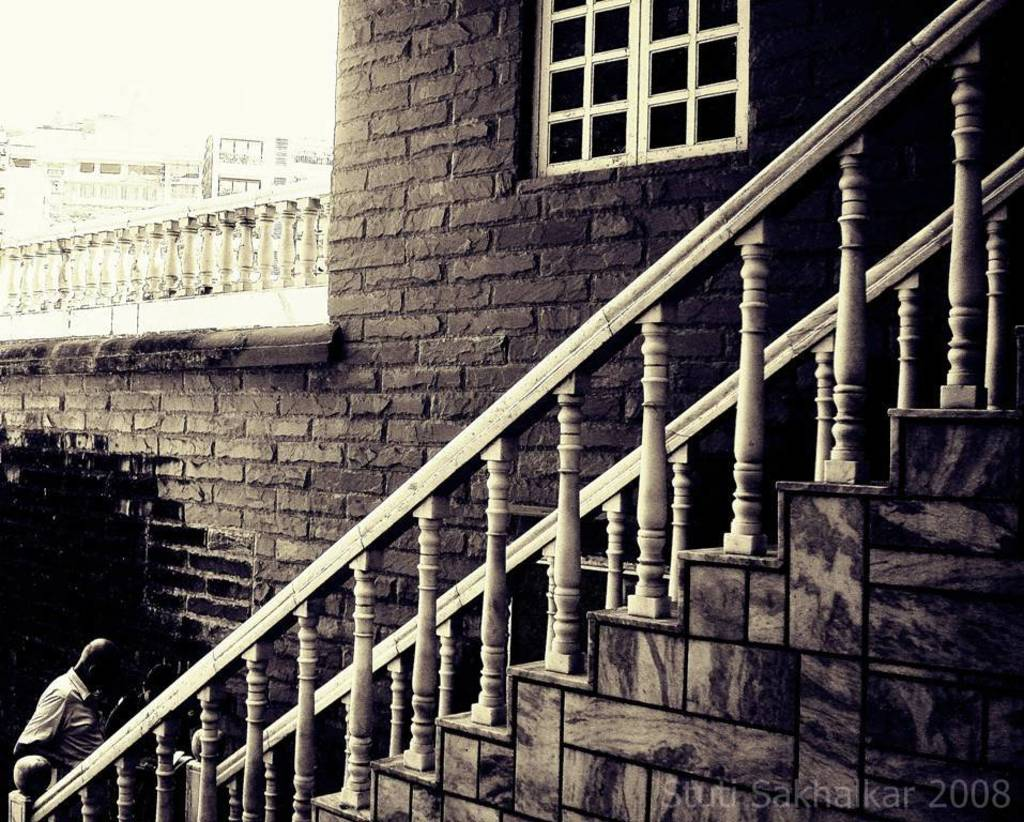Window: (534, 0, 759, 176), (215, 173, 265, 203), (215, 140, 265, 162)
